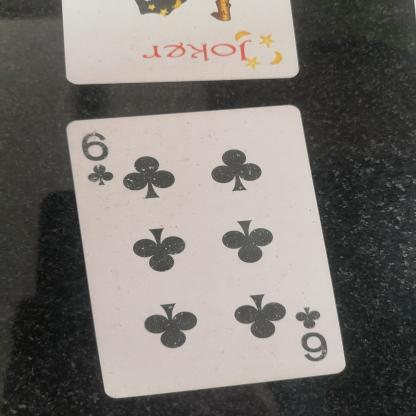6C: (80, 129, 126, 201), (290, 299, 338, 359)
